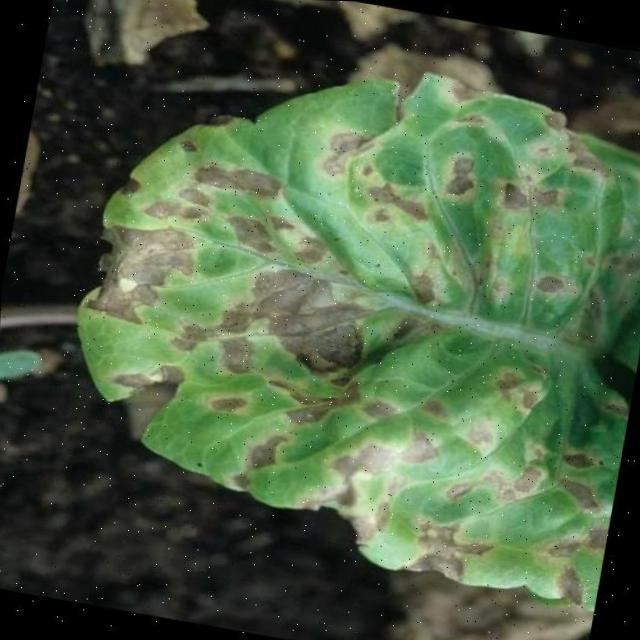Septoria_Blight: (60, 29, 640, 608)
